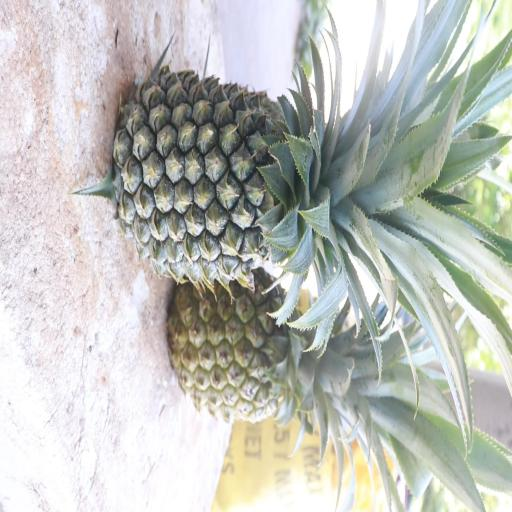------------------------------: (164, 246, 396, 424)
